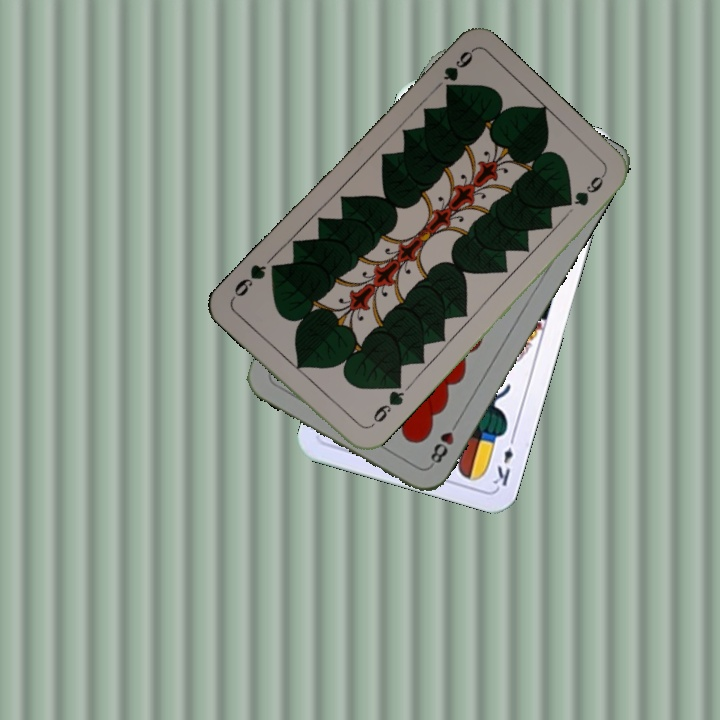EK: (488, 430, 518, 489)
G9: (364, 380, 407, 431), (439, 47, 476, 94)
H8: (426, 415, 462, 469)
